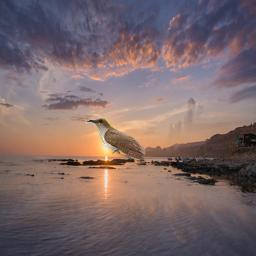Cuckoo: (85, 118, 145, 162)
